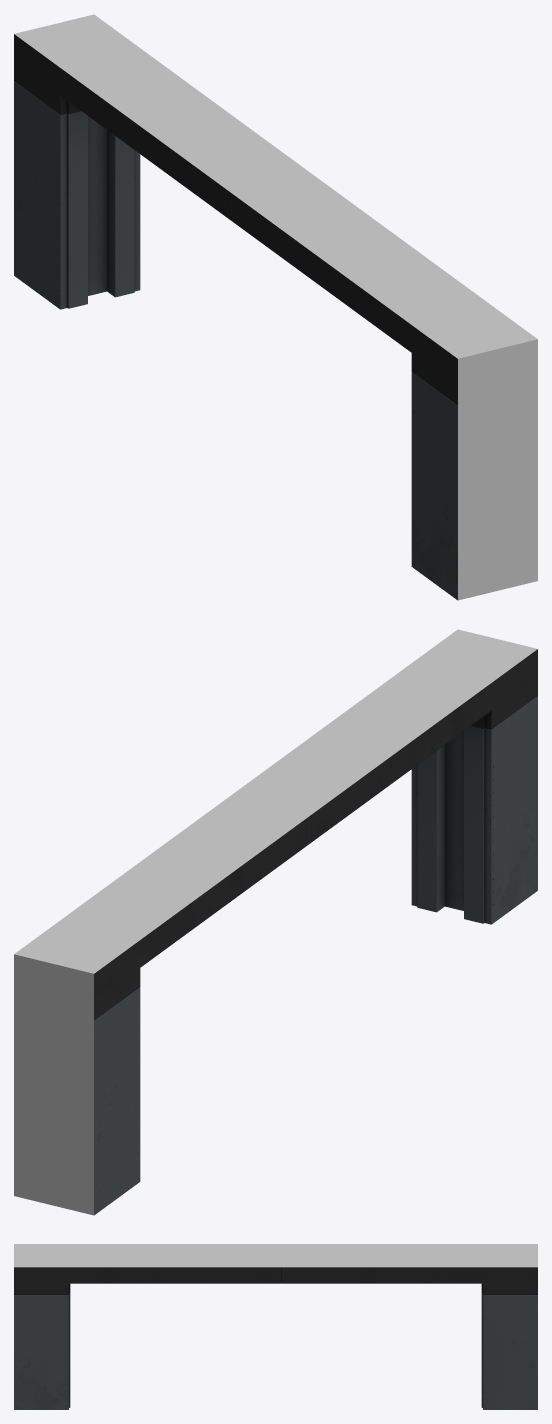
Rendered from SM_HangarBigDoorWall.fbx.
The picture shows the model from 3 angles, top to bottom: view 1: azimuth 30°, elevation 25°; view 2: azimuth 150°, elevation 25°; view 3: azimuth 270°, elevation 25°; orthographic projection. The views are drawn at different scales.
Parts seen in each view (by area): view 1: SM_HangarBigDoorWall_LOD0; view 2: SM_HangarBigDoorWall_LOD0; view 3: SM_HangarBigDoorWall_LOD0.
Boxes of the visible parts, x1=… form: SM_HangarBigDoorWall_LOD0: x1=14, y1=14, x2=537, y2=600; SM_HangarBigDoorWall_LOD0: x1=14, y1=629, x2=537, y2=1215; SM_HangarBigDoorWall_LOD0: x1=14, y1=1244, x2=537, y2=1409.
Bounding box in the file's own units: 284 × 2723 × 818.
Materials: 2 (1 with a texture image).
